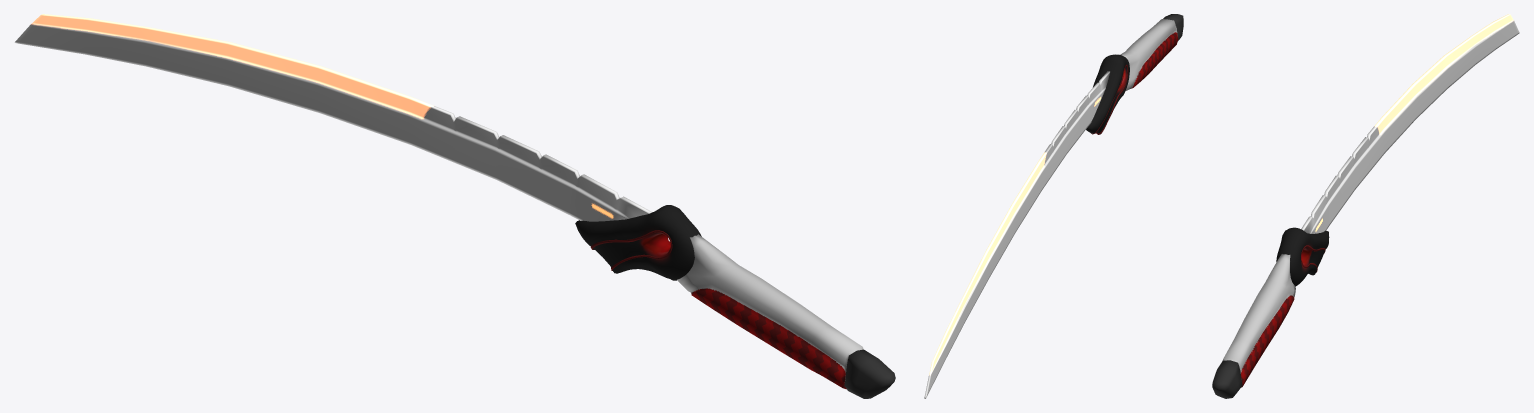
Rendered from scifi_katana.glb.
The picture shows the model from 3 angles, left to right: view 1: azimuth 30°, elevation 25°; view 2: azimuth 150°, elevation 25°; view 3: azimuth 330°, elevation 25°; orthographic projection. The views are drawn at different scales.
Visible parts, largest first — view 1: Katanaketchfab; view 2: Katanaketchfab; view 3: Katanaketchfab.
Part boxes in pixels (x1,y1,x2,y2): Katanaketchfab: (14, 14, 895, 398); Katanaketchfab: (924, 14, 1183, 398); Katanaketchfab: (1212, 14, 1519, 398).
Size of the model in its own units: 1.16 by 0.5947 by 5.02.
Materials: 1 (1 with a texture image).
